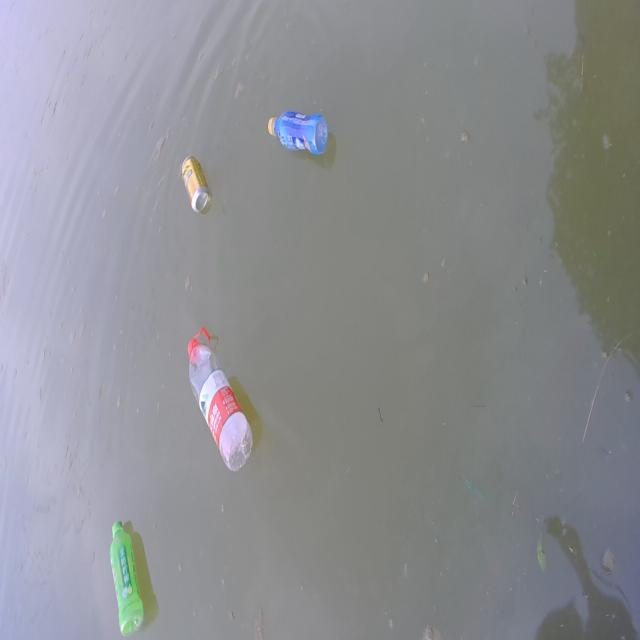bottle: (169, 294, 271, 488), (96, 501, 172, 634), (255, 98, 338, 168)
